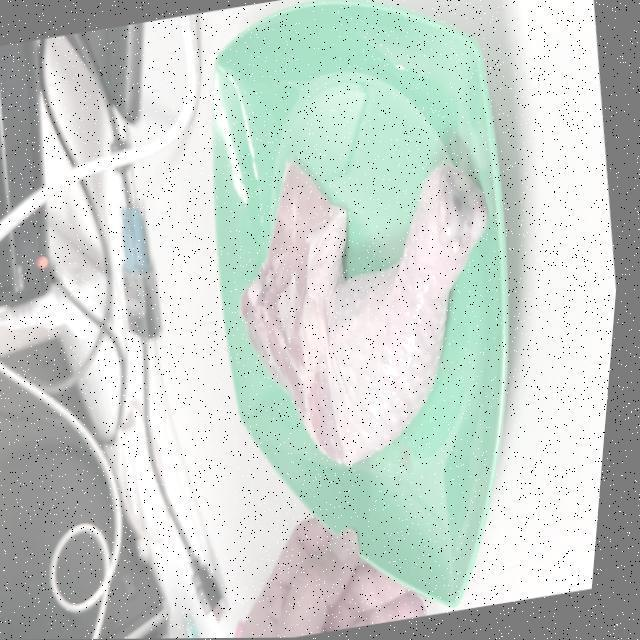quater: (240, 152, 500, 456)
